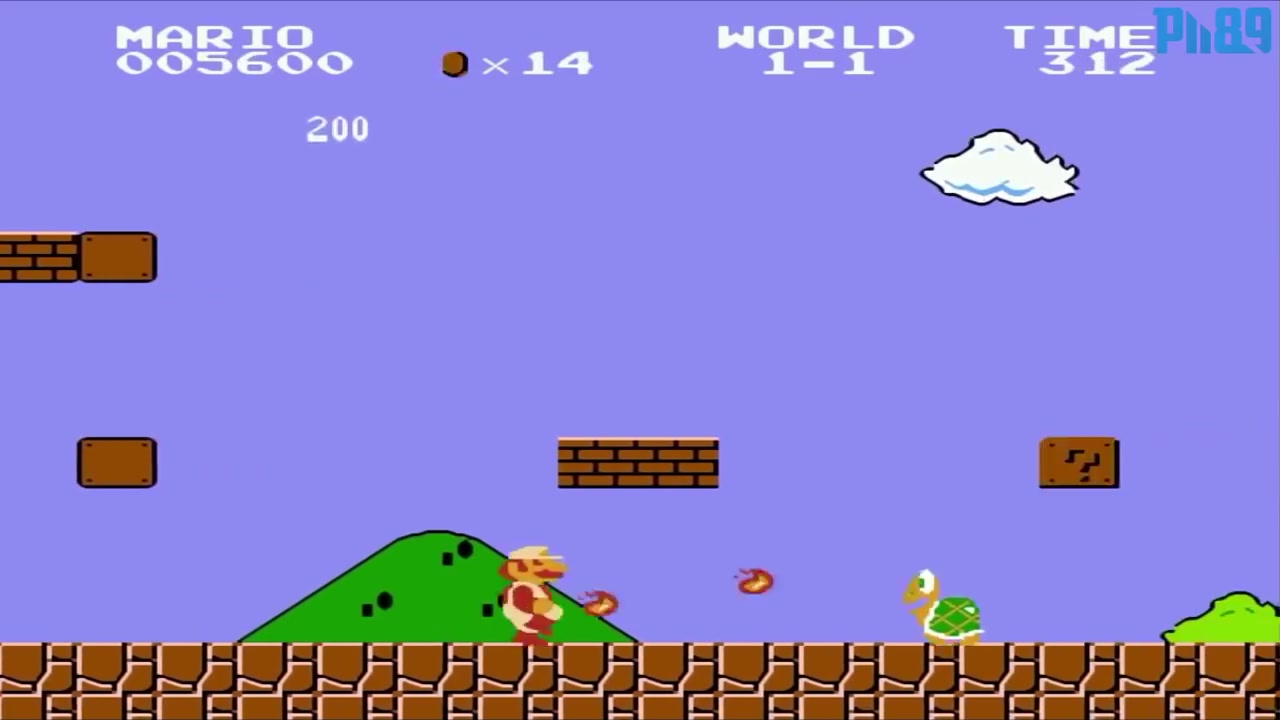mario: (490, 536, 573, 642)
